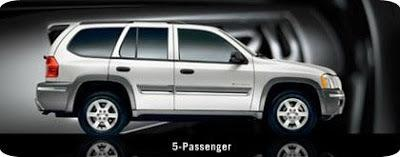Car: (27, 14, 358, 147)
